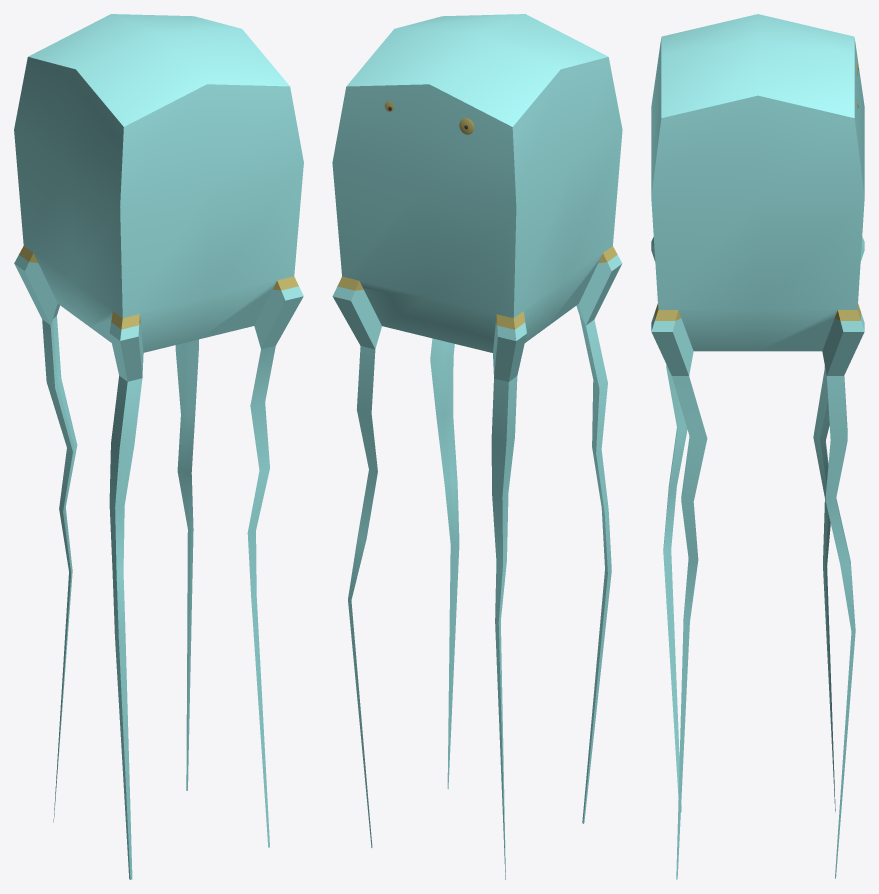
File: Box_Jellyfish.fbx
3 renders of one model, left to right at view 1: azimuth 30°, elevation 25°; view 2: azimuth 150°, elevation 25°; view 3: azimuth 270°, elevation 25°, orthographic.
Parts seen in each view (by area): view 1: Box_Jellyfish; view 2: Box_Jellyfish; view 3: Box_Jellyfish.
Part boxes in pixels (x1,y1,x2,y2): Box_Jellyfish: [14, 14, 303, 879]; Box_Jellyfish: [332, 14, 622, 879]; Box_Jellyfish: [651, 14, 864, 879].
Bounding box in the file's own units: 2.31 × 9.64 × 2.31.
